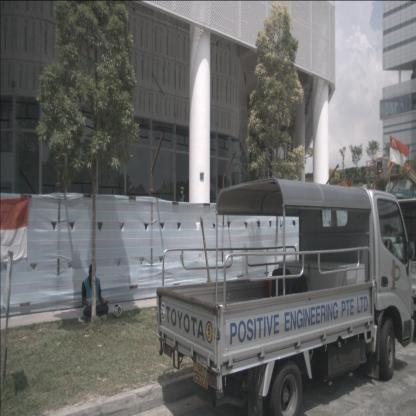vehicle-truck: (156, 178, 415, 416)
